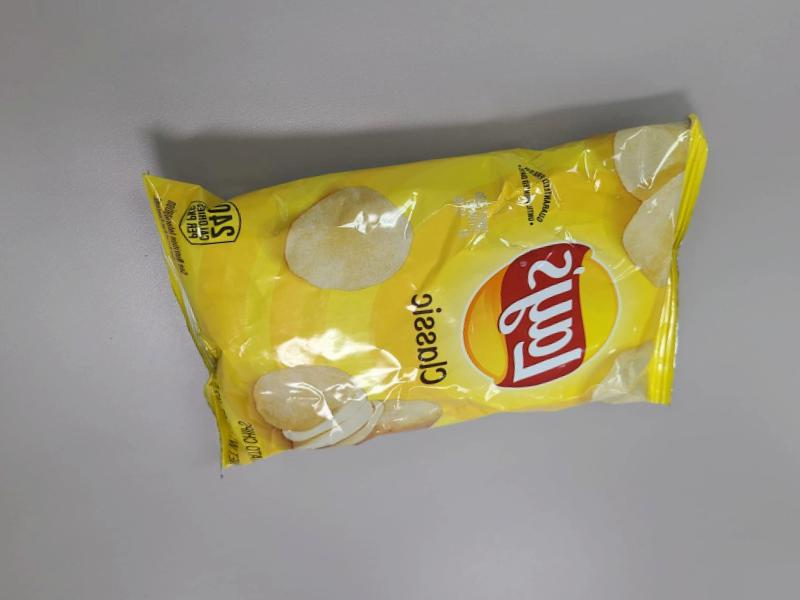lays: (192, 184, 724, 451)
